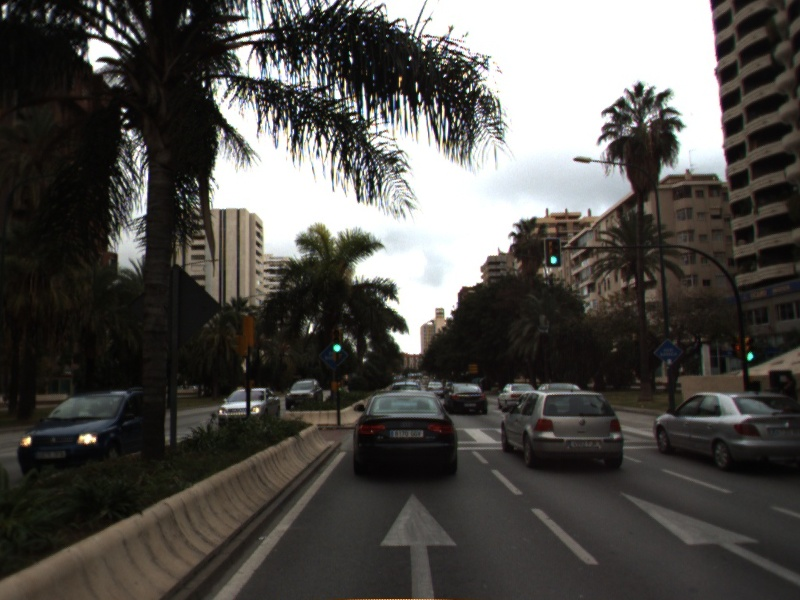STRAIGHT: (617, 489, 800, 585), (375, 489, 462, 600)
